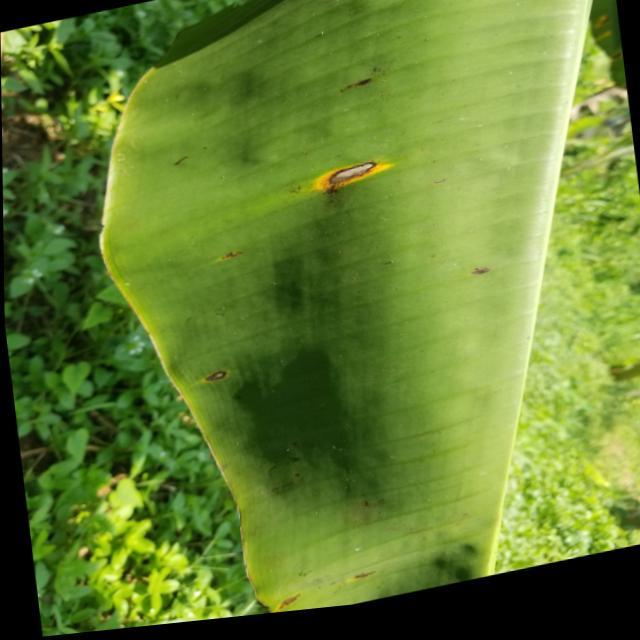Early_rust: (305, 134, 412, 216), (270, 548, 392, 614), (206, 228, 263, 285), (176, 349, 231, 396)
